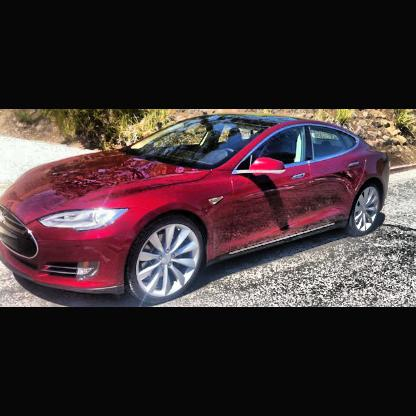Tesla Model S Sedan 2012: (3, 113, 392, 305)
